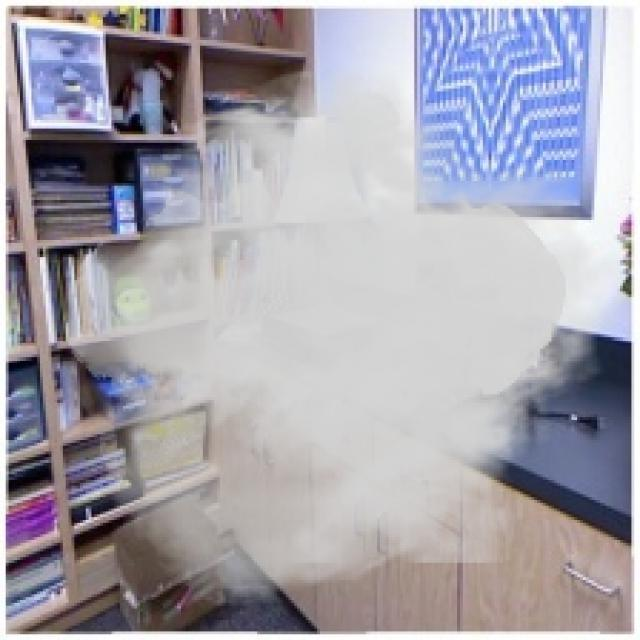Smoke: (63, 63, 623, 612)
